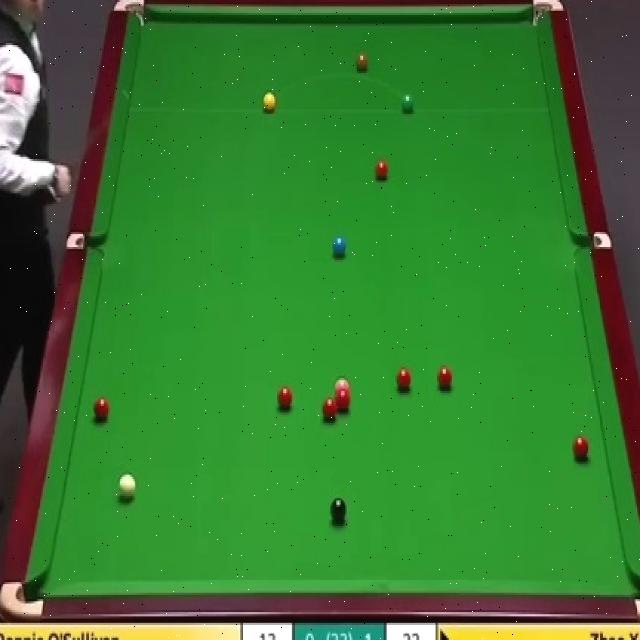black-ball: (330, 495, 349, 525)
blue-ball: (332, 236, 346, 257)
brown-ball: (355, 53, 368, 72)
green-ball: (400, 91, 414, 114)
pink-ball: (334, 376, 351, 396)
red-ball: (93, 394, 110, 424), (570, 434, 590, 459), (276, 387, 294, 411), (374, 156, 390, 182), (396, 367, 412, 391), (322, 399, 338, 422), (437, 365, 452, 389), (334, 393, 350, 411)
white-ball: (116, 470, 137, 501)
yellow-ball: (260, 90, 278, 111)
